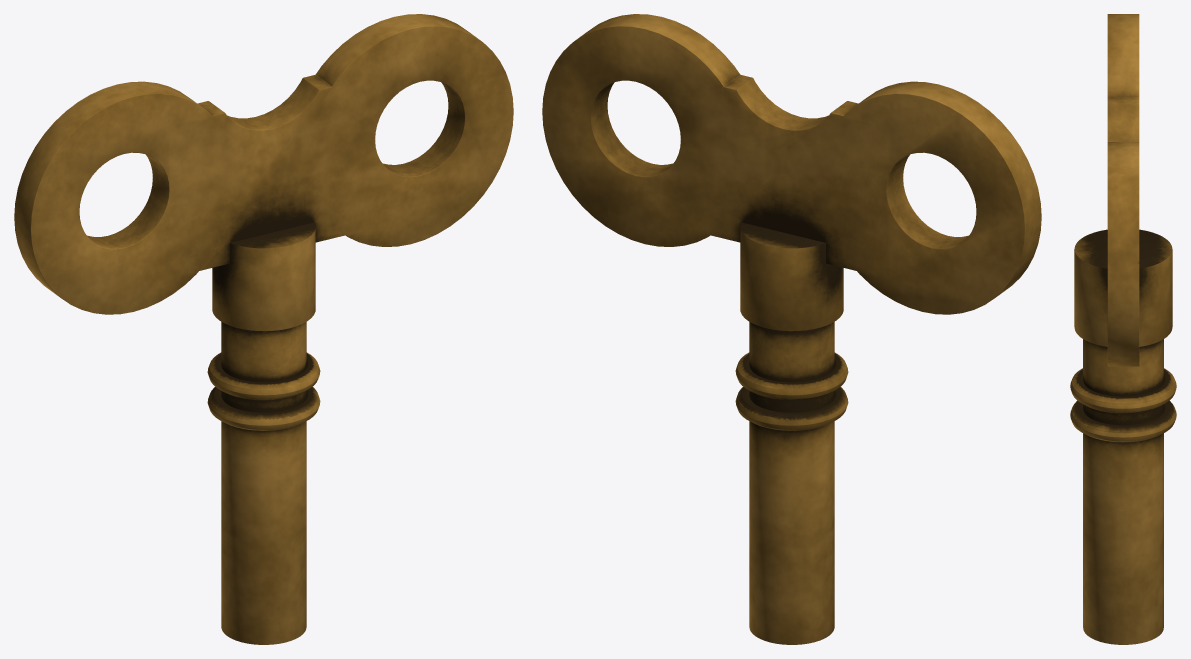
The model's file is mb_key.glb.
3 renders of one model, left to right at view 1: azimuth 30°, elevation 25°; view 2: azimuth 150°, elevation 25°; view 3: azimuth 270°, elevation 25°, orthographic. The views are drawn at different scales.
Parts seen in each view (by area): view 1: MBKey; view 2: MBKey; view 3: MBKey.
Boxes of the visible parts, x1,y1,x2,y2 form: MBKey: (14, 14, 513, 644); MBKey: (542, 14, 1041, 644); MBKey: (1070, 14, 1176, 644).
Size of the model in its own units: 0.0366 by 0.0413 by 0.0074.
1 material, 1 textured.
